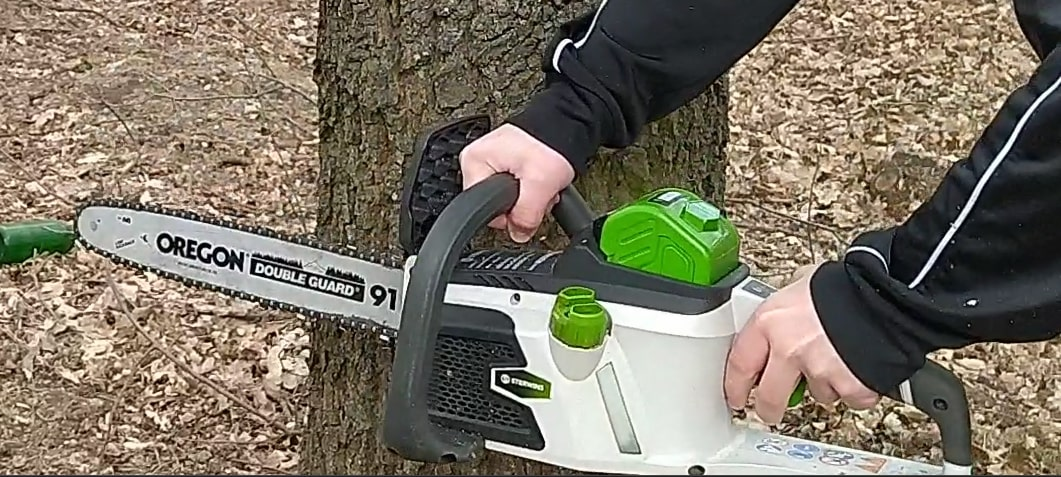chainsaw: (47, 140, 1013, 477)
